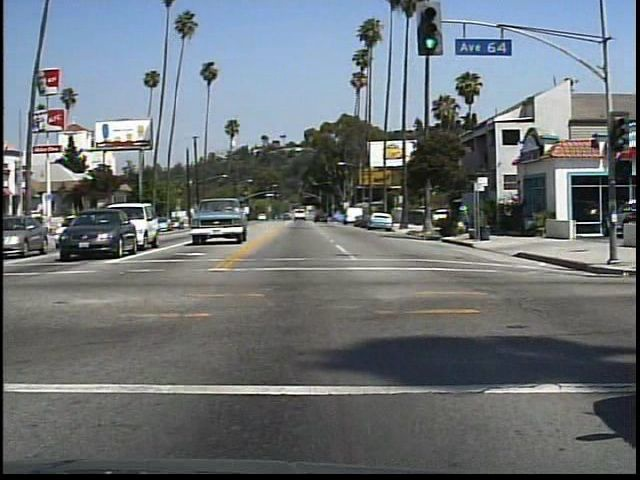person: (457, 203, 471, 234)
